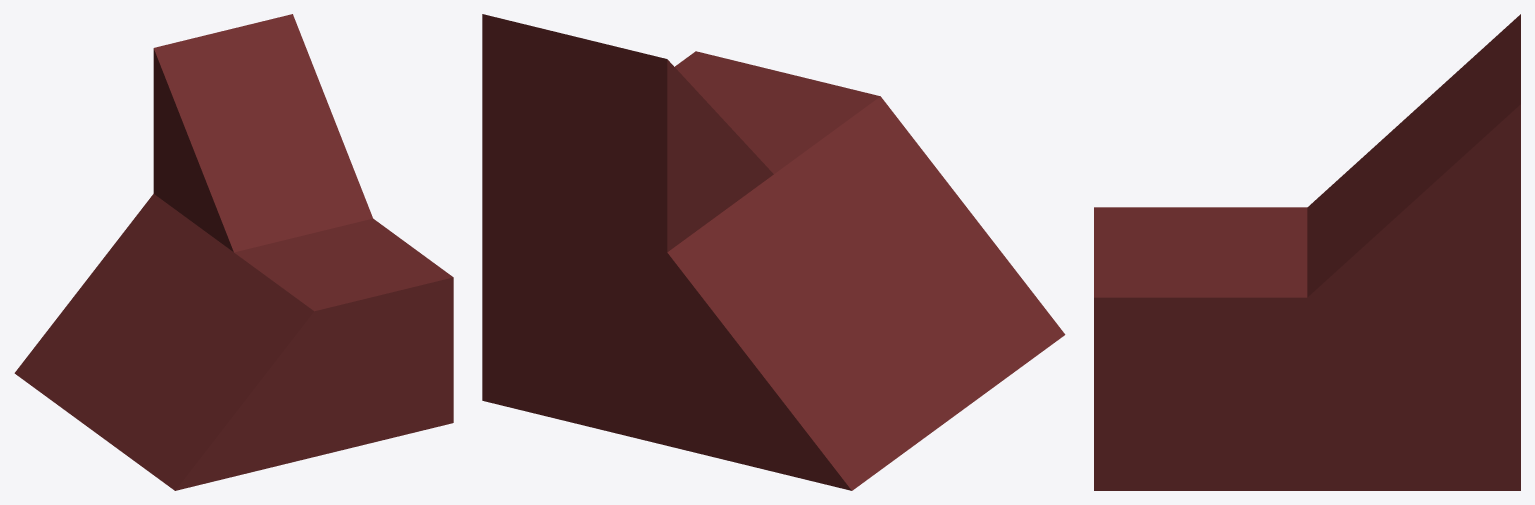
Rendered from PiezaA.glb.
The picture shows the model from 3 angles, left to right: view 1: azimuth 30°, elevation 25°; view 2: azimuth 150°, elevation 25°; view 3: azimuth 270°, elevation 25°; orthographic projection. The views are drawn at different scales.
Parts seen in each view (by area): view 1: Part Studio 1 - A.stl; view 2: Part Studio 1 - A.stl; view 3: Part Studio 1 - A.stl.
Boxes of the visible parts, bbox=[...] form: Part Studio 1 - A.stl: bbox=[14, 14, 453, 490]; Part Studio 1 - A.stl: bbox=[482, 14, 1065, 490]; Part Studio 1 - A.stl: bbox=[1094, 14, 1520, 490].
Size of the model in its own units: 4 by 4 by 4.
